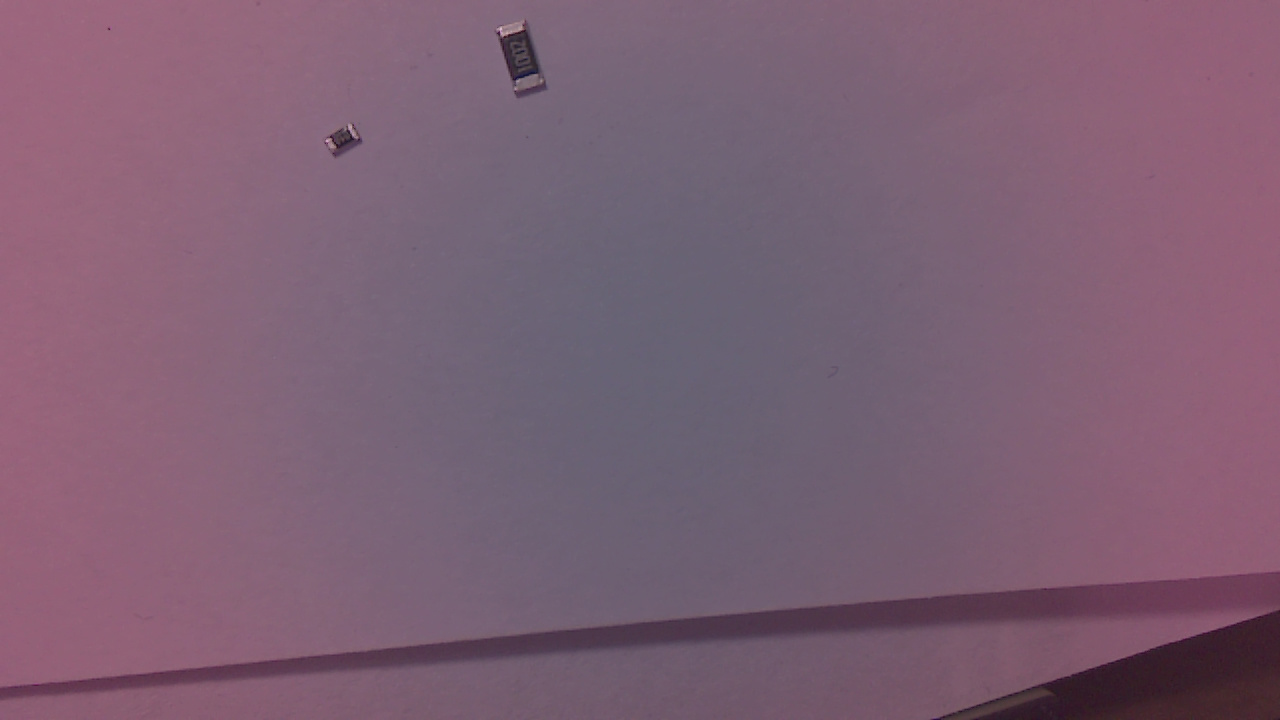Resistor: (498, 22, 555, 107), (328, 127, 368, 162)
